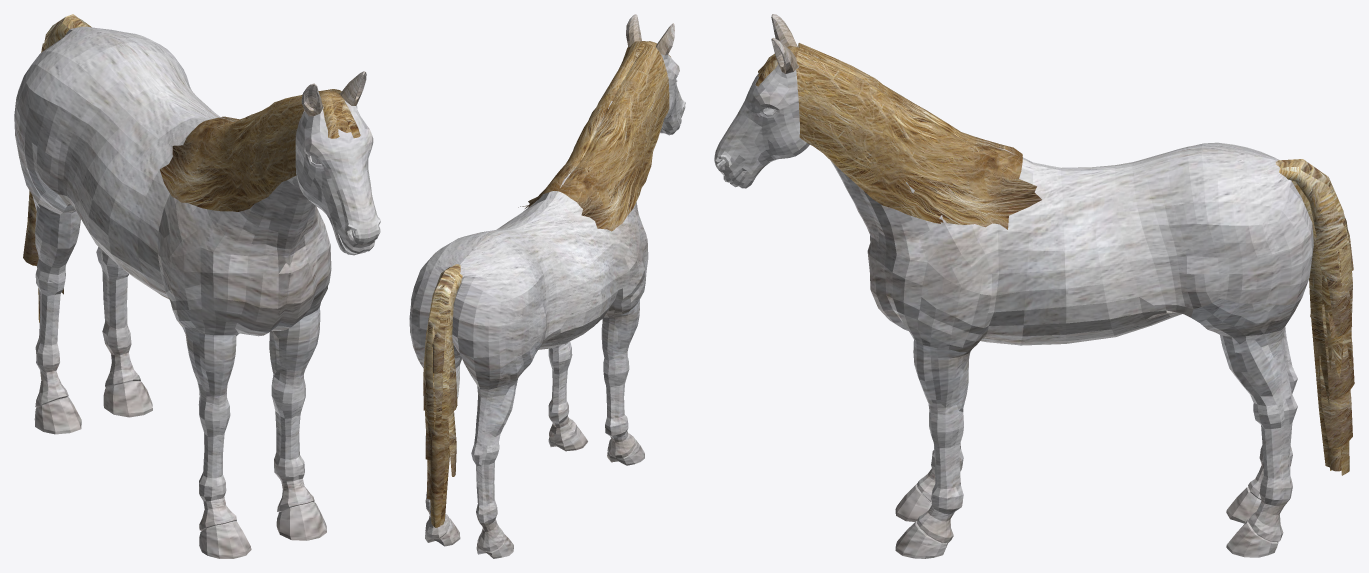
The model's file is horseblanco.obj.
3 renders of one model, left to right at view 1: azimuth 30°, elevation 25°; view 2: azimuth 150°, elevation 25°; view 3: azimuth 270°, elevation 25°, orthographic. The views are drawn at different scales.
Parts seen in each view (by area): view 1: horseblanco:horse___N1, horseblanco:crest3__N1, horseblanco:crest___N1, horseblanco:tail____N1cabablanco, horseblanco:Object06N1, horseblanco:crest2__N1; view 2: horseblanco:horse___N1, horseblanco:crest3__N1, horseblanco:tail____N1cabablanco, horseblanco:crest1__N1, horseblanco:crest___N1, horseblanco:crest2__N1, horseblanco:Object07N1, horseblanco:Object02N1, horseblanco:Object06N1, horseblanco:Object05N1; view 3: horseblanco:horse___N1, horseblanco:crest1__N1, horseblanco:tail____N1cabablanco, horseblanco:crest___N1, horseblanco:Object08N1, horseblanco:Object01Ncaballo1, horseblanco:crest2__N1, horseblanco:crest3__N1.
Boxes of the visible parts, left/top/right/bottom form: horseblanco:horse___N1: left=14, top=26, right=380, bottom=558; horseblanco:crest3__N1: left=160, top=92, right=320, bottom=211; horseblanco:crest___N1: left=220, top=89, right=356, bottom=138; horseblanco:tail____N1cabablanco: left=38, top=14, right=91, bottom=322; horseblanco:Object06N1: left=23, top=190, right=38, bottom=265; horseblanco:crest2__N1: left=215, top=91, right=324, bottom=210; horseblanco:horse___N1: left=409, top=14, right=685, bottom=558; horseblanco:crest3__N1: left=561, top=44, right=669, bottom=231; horseblanco:tail____N1cabablanco: left=423, top=264, right=462, bottom=527; horseblanco:crest1__N1: left=518, top=41, right=655, bottom=208; horseblanco:crest___N1: left=528, top=41, right=670, bottom=207; horseblanco:crest2__N1: left=559, top=44, right=649, bottom=208; horseblanco:Object07N1: left=432, top=309, right=450, bottom=373; horseblanco:Object02N1: left=432, top=326, right=447, bottom=525; horseblanco:Object06N1: left=448, top=411, right=456, bottom=476; horseblanco:Object05N1: left=448, top=343, right=457, bottom=410; horseblanco:horse___N1: left=714, top=14, right=1313, bottom=558; horseblanco:crest1__N1: left=755, top=49, right=1041, bottom=229; horseblanco:tail____N1cabablanco: left=1275, top=159, right=1352, bottom=475; horseblanco:crest___N1: left=756, top=45, right=1022, bottom=224; horseblanco:Object08N1: left=1319, top=356, right=1352, bottom=447; horseblanco:Object01Ncaballo1: left=1322, top=304, right=1354, bottom=397; horseblanco:crest2__N1: left=798, top=44, right=1022, bottom=157; horseblanco:crest3__N1: left=798, top=43, right=1022, bottom=156.
Bounding box in the file's own units: 2.33 × 7.14 × 8.18.
Materials: 1 (1 with a texture image).
